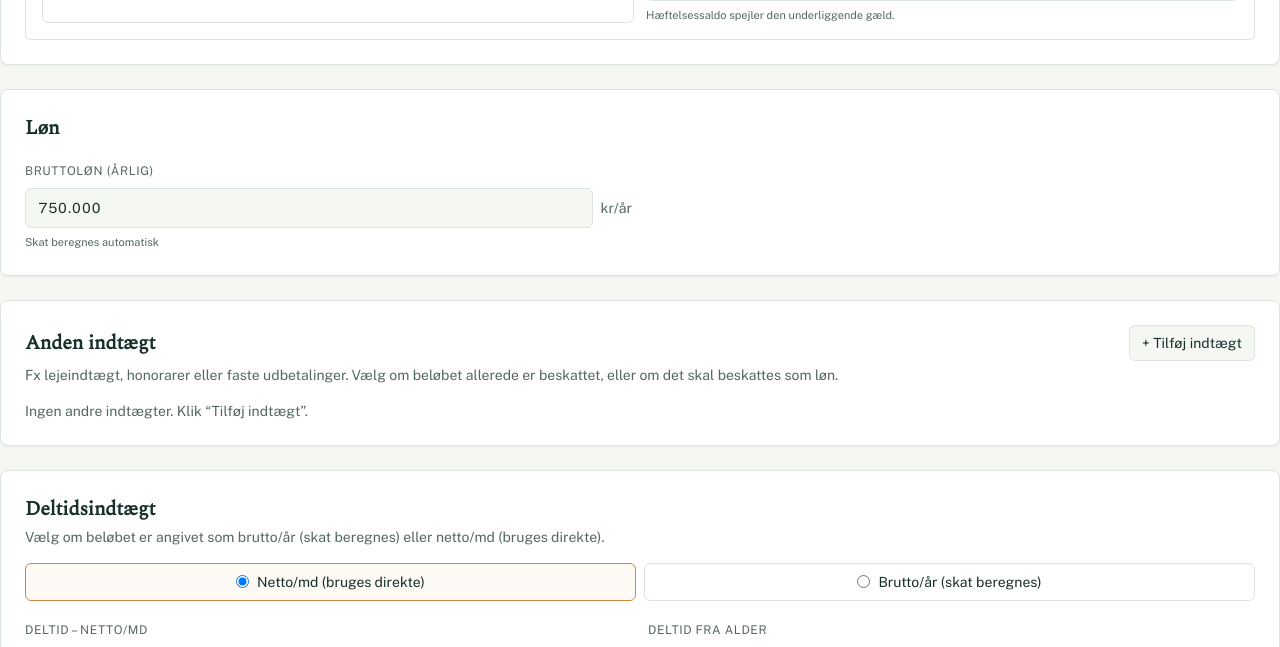
Test: Anden indtægt › a new user has no other income and can add one, choosing how it is taxed
Later steps or results of the test are not shown.
(page scrolled)
expect the text "Ingen andre indtægter. Klik “Tilføj indtægt”." is shown: met, box [25,402,308,418]
Click the button "+ Tilføj indtægt".
click(1192, 342)  # box [1129,324,1255,360]
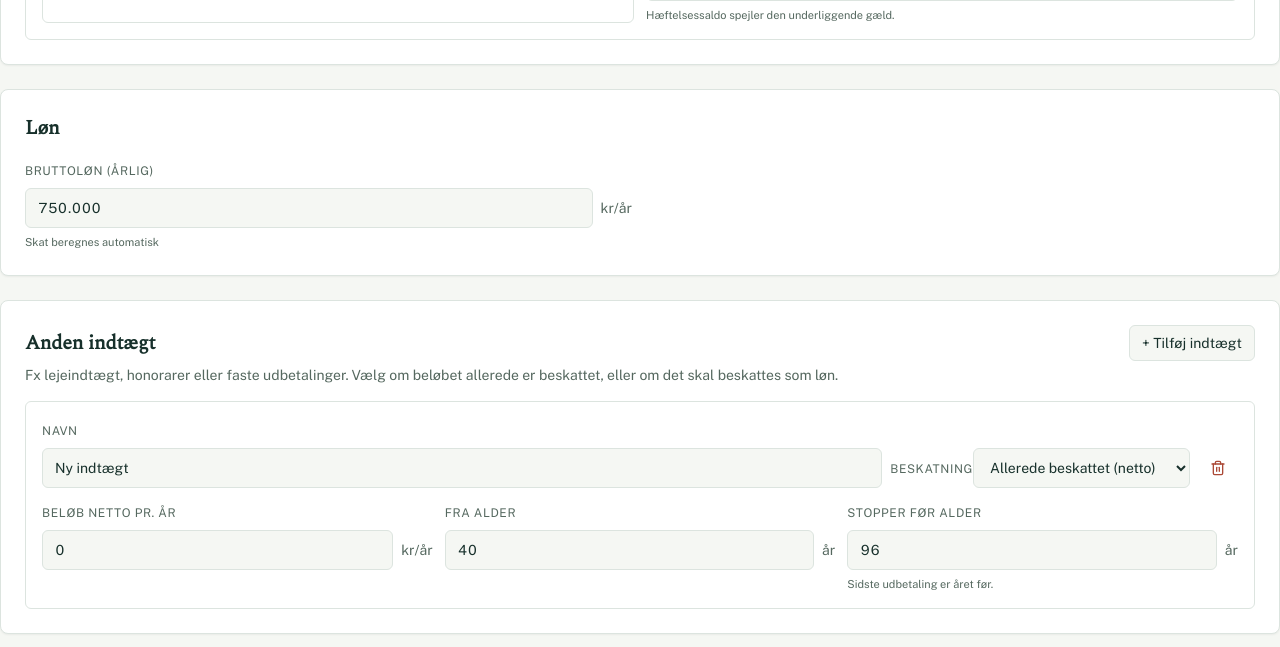
Select "Beskattes som løn (brutto)" in the dropdown labelled "Beskatning" at (1082, 468), box [973,448,1190,488]
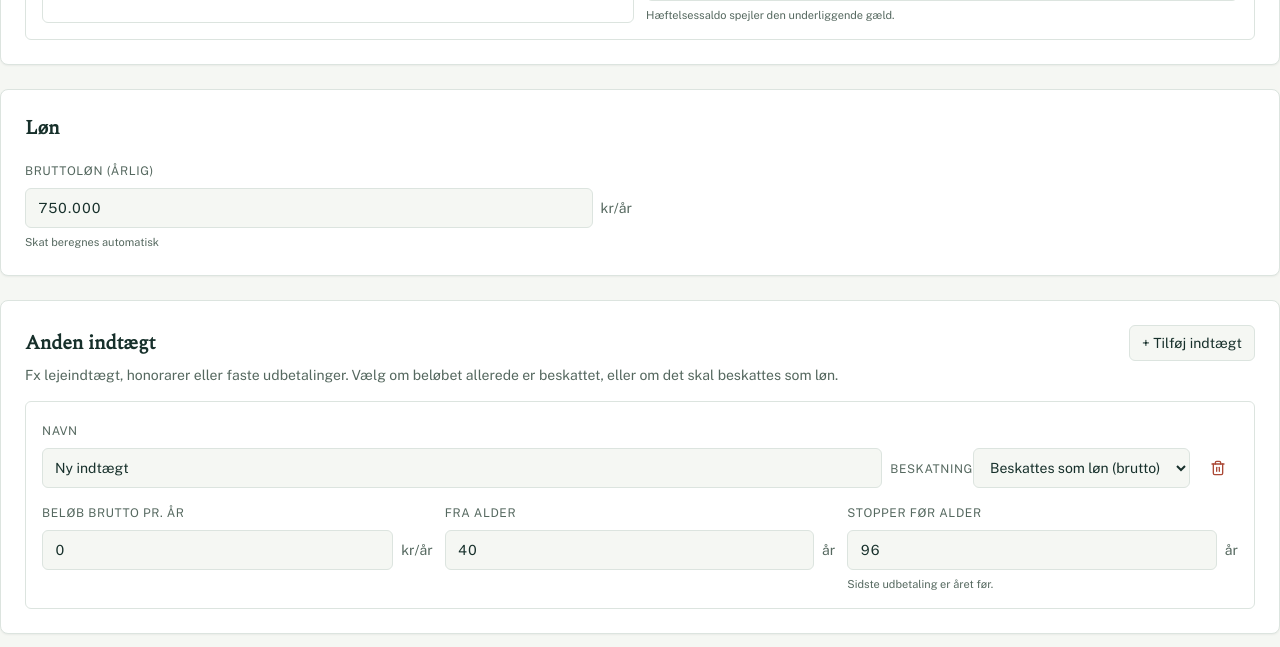
expect the text "Beløb brutto pr. år" is shown: met, box [42,506,184,520]
